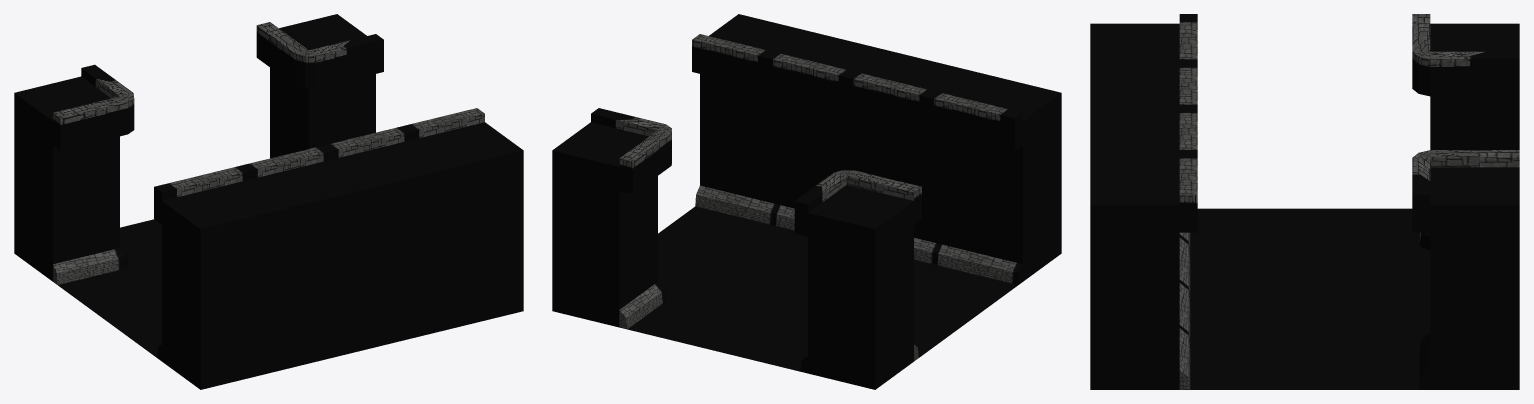
The model's file is Segment_T_Crossing.FBX.
3 views of the same model, side by side, from view 1: azimuth 30°, elevation 25°; view 2: azimuth 150°, elevation 25°; view 3: azimuth 270°, elevation 25° (orthographic). The views are drawn at different scales.
Visible parts, largest first — view 1: Piece_Straight015, Piece_OuterCorner006, Piece_Straight016, Piece_Straight017, Piece_Straight018, Piece_OuterCorner007, Plane015; view 2: Plane015, Piece_Straight015, Piece_OuterCorner006, Piece_OuterCorner007, Piece_Straight018, Piece_Straight017, Piece_Straight016; view 3: Plane015, Piece_OuterCorner007, Piece_Straight018, Piece_OuterCorner006, Piece_Straight016, Piece_Straight017, Piece_Straight015.
Part boxes in pixels (<box>): Piece_Straight015: <box>154,167,281,389</box>; Piece_OuterCorner006: <box>14,64,134,284</box>; Piece_Straight016: <box>235,147,362,370</box>; Piece_Straight017: <box>316,127,442,350</box>; Piece_Straight018: <box>397,108,523,330</box>; Piece_OuterCorner007: <box>256,14,383,158</box>; Plane015: <box>58,219,161,357</box>; Plane015: <box>627,206,1017,371</box>; Piece_Straight015: <box>934,73,1061,284</box>; Piece_OuterCorner006: <box>794,170,921,389</box>; Piece_OuterCorner007: <box>552,108,671,329</box>; Piece_Straight018: <box>692,14,818,225</box>; Piece_Straight017: <box>773,33,899,230</box>; Piece_Straight016: <box>853,53,980,265</box>; Plane015: <box>1190,208,1430,389</box>; Piece_OuterCorner007: <box>1412,150,1519,389</box>; Piece_Straight018: <box>1090,150,1197,389</box>; Piece_OuterCorner006: <box>1412,14,1519,250</box>; Piece_Straight016: <box>1090,59,1197,298</box>; Piece_Straight017: <box>1090,104,1197,343</box>; Piece_Straight015: <box>1090,14,1197,252</box>.
Size of the model in its own units: 400 by 200 by 400.
